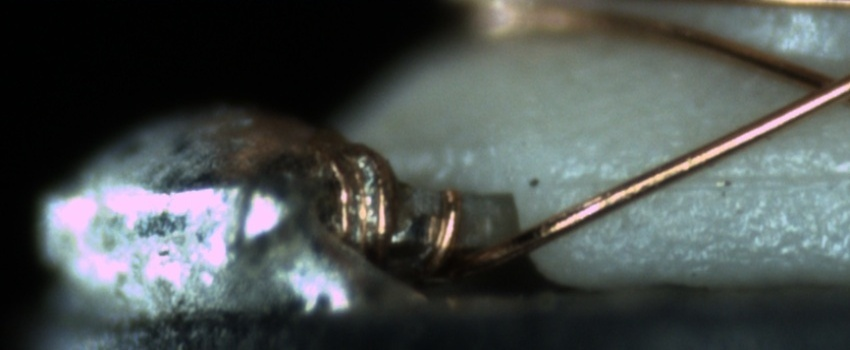CL: (781, 58, 849, 115)
DL: (564, 148, 849, 212)
TE: (311, 136, 466, 271)
